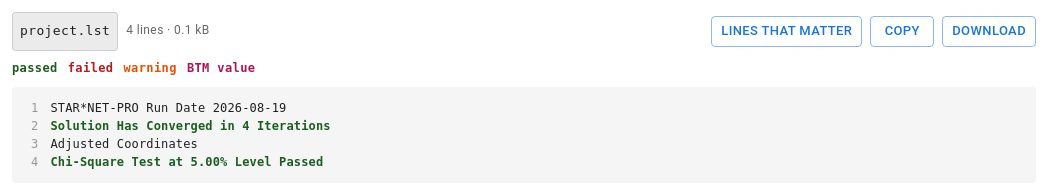
it: native files panel › keeps only the decisive lines of a listing when asked
This screenshot has width=1048, height=187.
Expected: the element named "project.lst" shows "Adjusted Coordinates", [50,137,198,151]
Click the button with test id "native-files-notable": click(787, 31) [711,16,862,47]
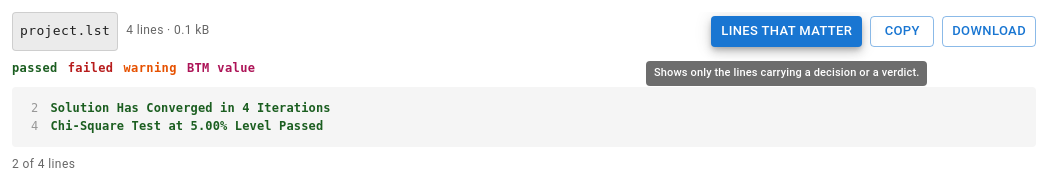
Expected: the element named "project.lst" shows "Solution Has Converged", [50,101,331,115]
Expected: the element named "project.lst" no longer shows "Adjusted Coordinates", [12,87,1036,147]
Expected: the text "2 of 4 lines" is shown, [12,157,75,171]
